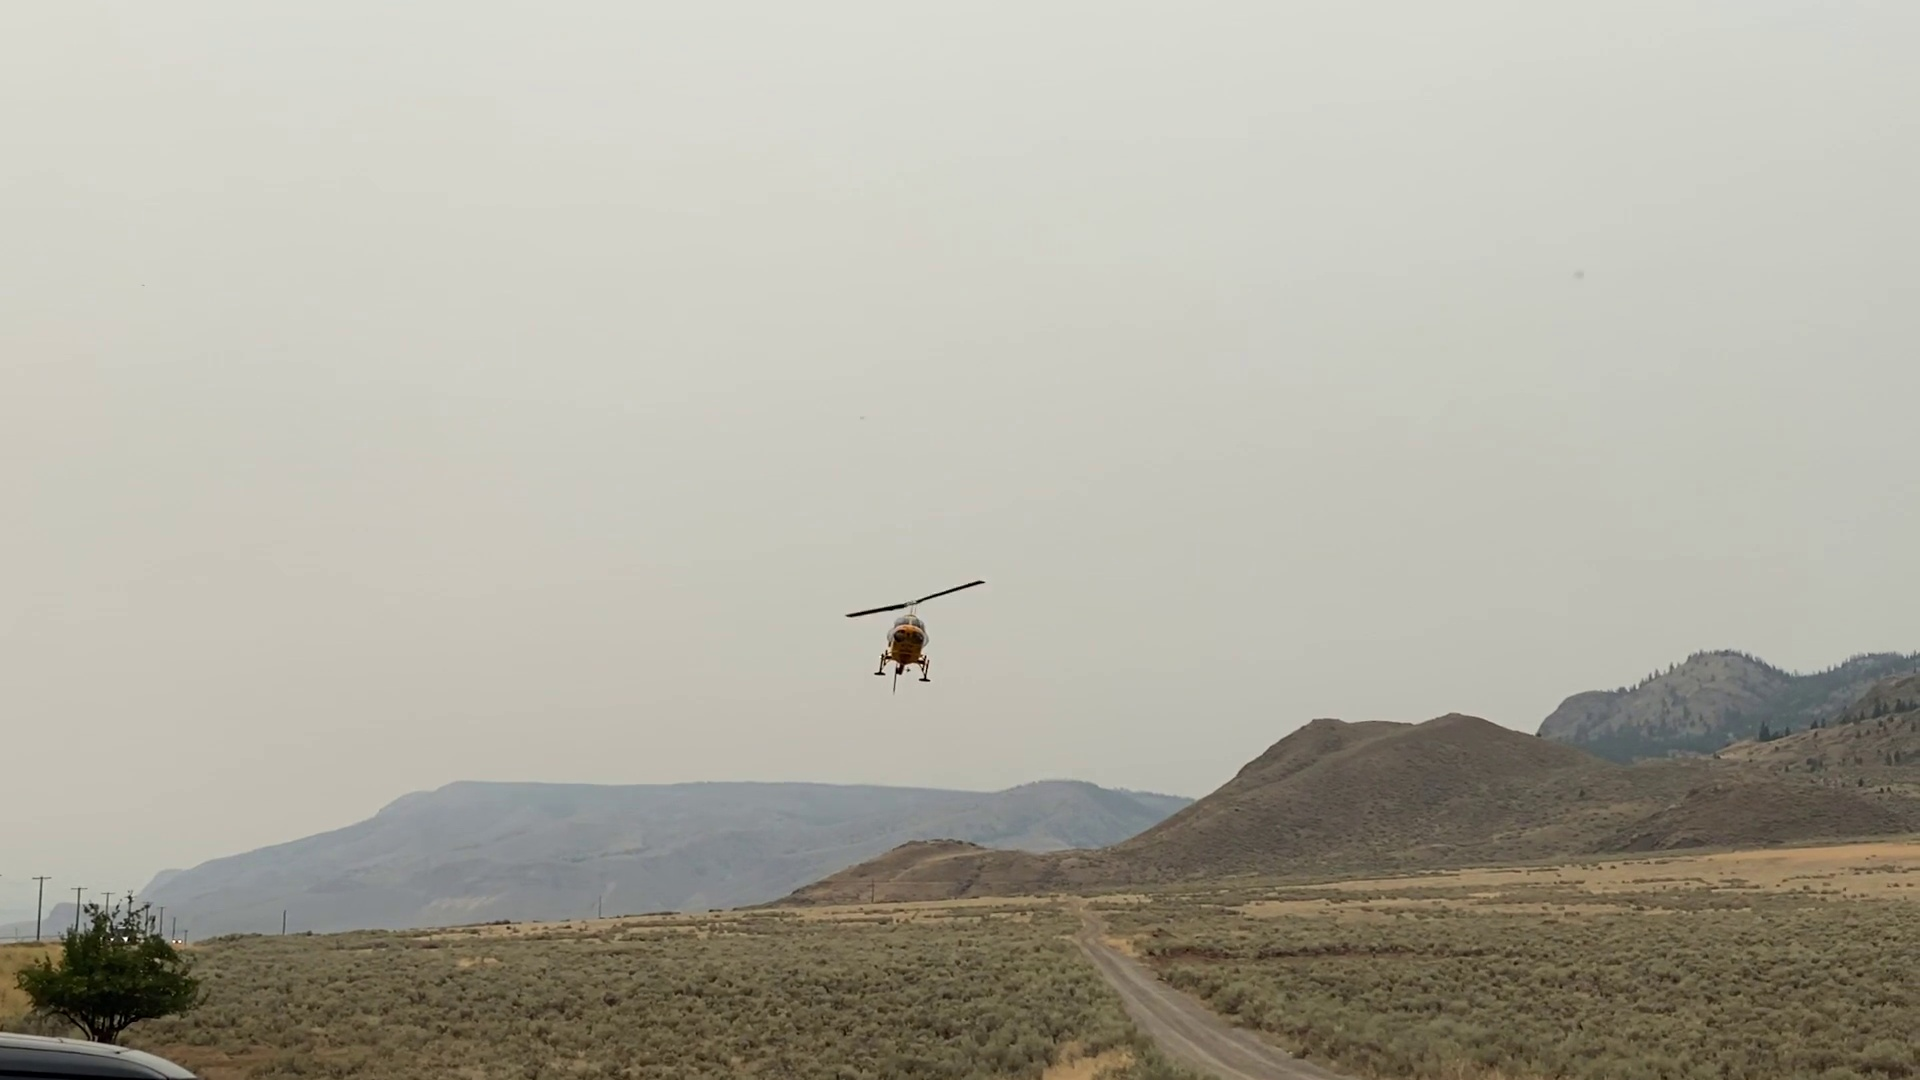heli: (844, 582, 986, 683)
